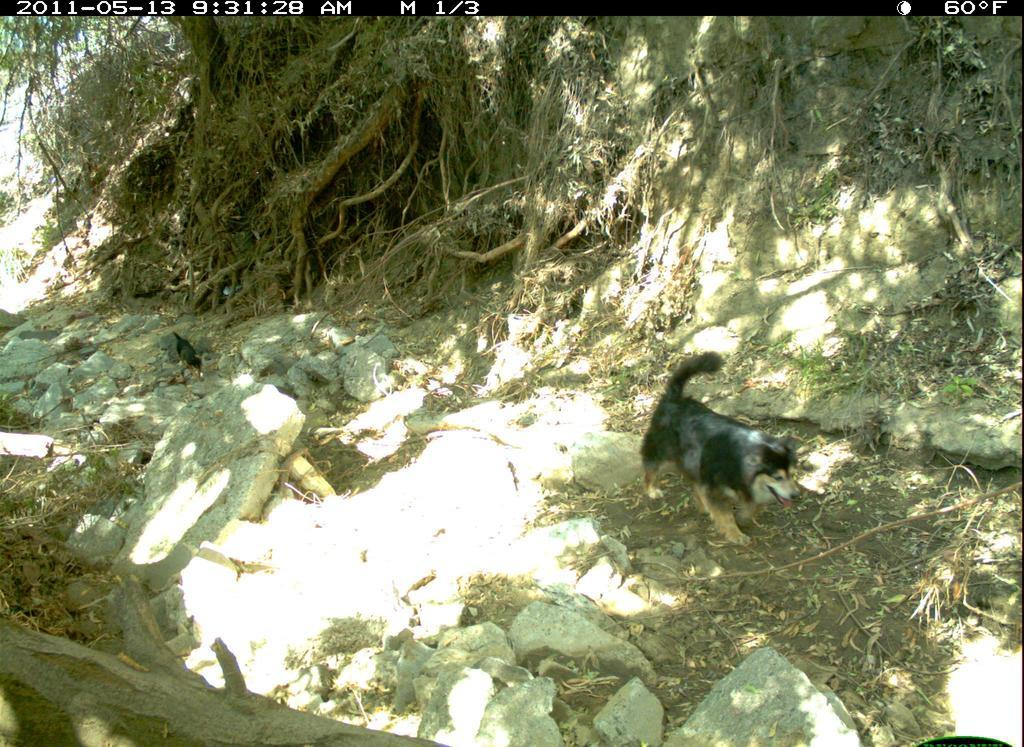dog: (612, 335, 831, 565)
